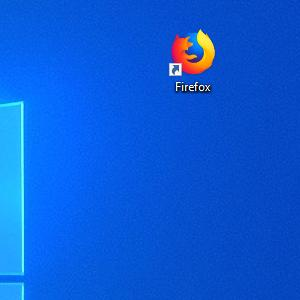firefox: (168, 27, 216, 77)
